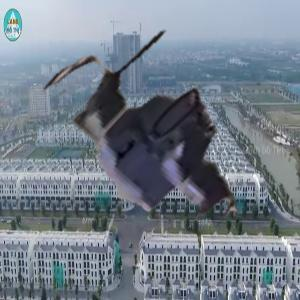drone: (23, 28, 268, 273)
